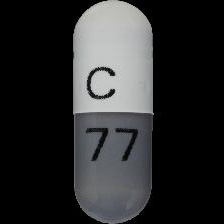65862-210: (0, 0, 224, 224)
